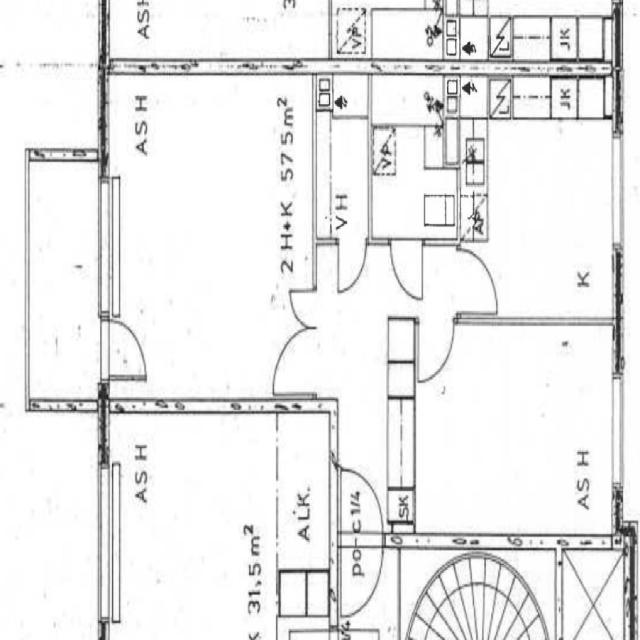door: (270, 318, 320, 403), (338, 542, 384, 622), (456, 242, 501, 322), (336, 464, 382, 537), (102, 314, 149, 384), (415, 319, 454, 389), (388, 237, 426, 306), (335, 238, 368, 299), (286, 284, 320, 338)
window: (95, 450, 123, 624), (95, 172, 123, 322), (607, 367, 629, 498), (608, 128, 627, 256)
zone: (111, 84, 292, 402), (415, 322, 618, 540), (465, 76, 622, 326), (110, 410, 280, 640), (0, 405, 100, 640), (27, 148, 102, 403), (369, 75, 456, 243), (276, 408, 335, 579), (486, 0, 615, 66)
